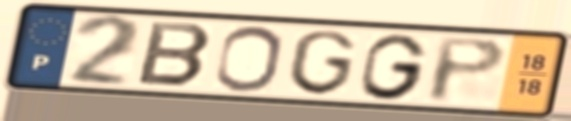2: (67, 13, 144, 89)
B: (133, 18, 216, 90)
G: (357, 31, 431, 102), (285, 28, 359, 98)
O: (211, 24, 285, 95)
P: (425, 35, 510, 106)
